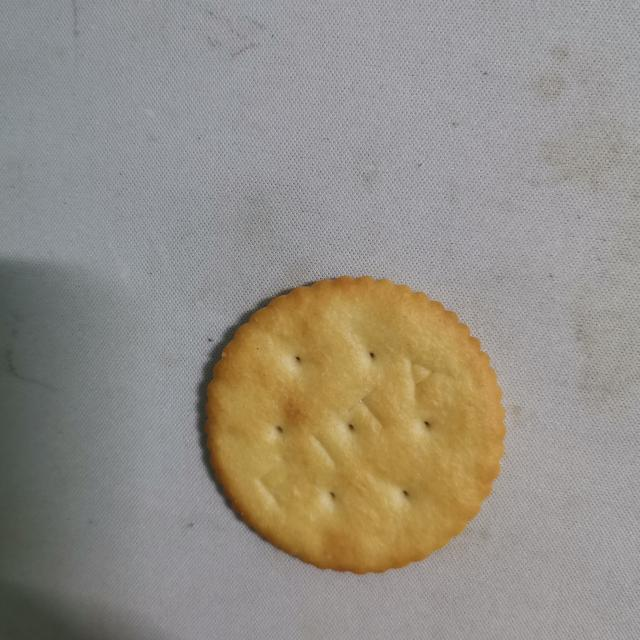Intact: (189, 264, 518, 582)
